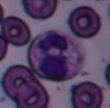N: (29, 30, 84, 81)
